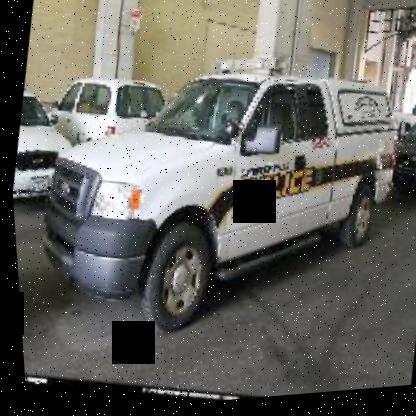emergency: (11, 10, 415, 380)
